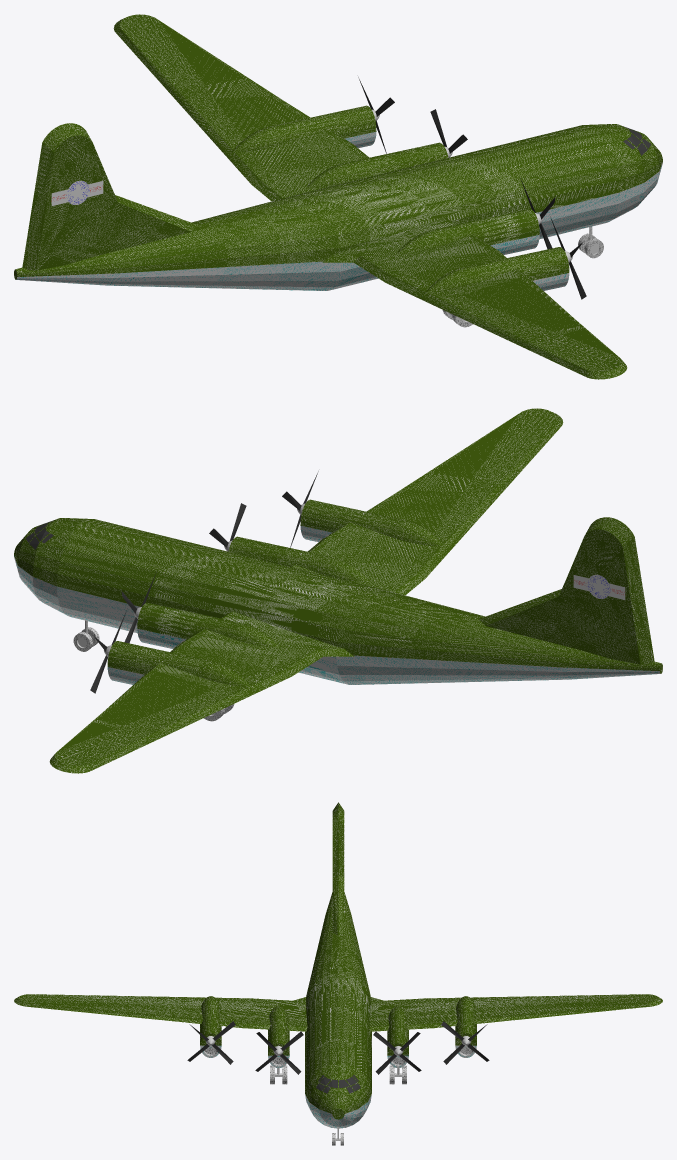
3 renders of one model, top to bottom at view 1: azimuth 30°, elevation 25°; view 2: azimuth 150°, elevation 25°; view 3: azimuth 270°, elevation 25°, orthographic. The views are drawn at different scales.
Parts seen in each view (by area): view 1: mesh15_mesh15-geometry, mesh1.002_mesh1-geometry, mesh9.002_mesh9-geometry, mesh12.003_mesh12-geometry, mesh5.003_mesh5-geometry, mesh13.003_mesh13-geometry, mesh4.003_mesh4-geometry; view 2: mesh15_mesh15-geometry, mesh9.002_mesh9-geometry, mesh1.002_mesh1-geometry, mesh4.003_mesh4-geometry, mesh13.003_mesh13-geometry, mesh5.003_mesh5-geometry, mesh12.003_mesh12-geometry; view 3: mesh15_mesh15-geometry, mesh9.002_mesh9-geometry, mesh1.002_mesh1-geometry, mesh12.003_mesh12-geometry, mesh4.003_mesh4-geometry, mesh13.003_mesh13-geometry, mesh5.003_mesh5-geometry.
Boxes of the visible parts, left/top/right/bottom form: mesh15_mesh15-geometry: left=14, top=123, right=662, bottom=290; mesh1.002_mesh1-geometry: left=113, top=14, right=386, bottom=201; mesh9.002_mesh9-geometry: left=322, top=217, right=627, bottom=379; mesh12.003_mesh12-geometry: left=397, top=208, right=539, bottom=254; mesh5.003_mesh5-geometry: left=229, top=105, right=376, bottom=155; mesh13.003_mesh13-geometry: left=422, top=247, right=569, bottom=296; mesh4.003_mesh4-geometry: left=307, top=142, right=448, bottom=187; mesh15_mesh15-geometry: left=14, top=517, right=662, bottom=684; mesh9.002_mesh9-geometry: left=290, top=408, right=563, bottom=595; mesh1.002_mesh1-geometry: left=49, top=611, right=354, bottom=773; mesh4.003_mesh4-geometry: left=137, top=602, right=279, bottom=648; mesh13.003_mesh13-geometry: left=300, top=499, right=447, bottom=549; mesh5.003_mesh5-geometry: left=107, top=641, right=254, bottom=690; mesh12.003_mesh12-geometry: left=228, top=536, right=369, bottom=581; mesh15_mesh15-geometry: left=305, top=802, right=371, bottom=1128; mesh9.002_mesh9-geometry: left=14, top=994, right=307, bottom=1031; mesh1.002_mesh1-geometry: left=369, top=994, right=662, bottom=1031; mesh12.003_mesh12-geometry: left=268, top=1006, right=289, bottom=1068; mesh4.003_mesh4-geometry: left=387, top=1006, right=408, bottom=1068; mesh13.003_mesh13-geometry: left=200, top=996, right=221, bottom=1057; mesh5.003_mesh5-geometry: left=455, top=996, right=476, bottom=1057.
Bounding box in the file's own units: 0.5876 × 0.2264 × 0.7768.
